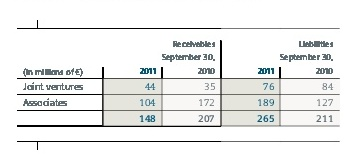table: (0, 0, 354, 168)
